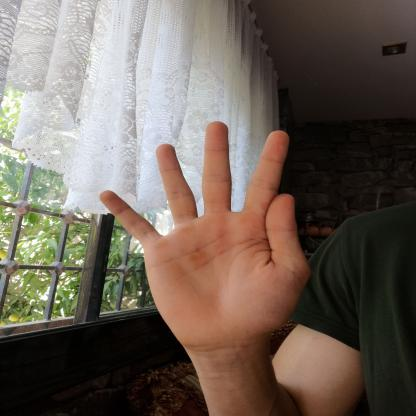SHEEN: (87, 110, 320, 359)
